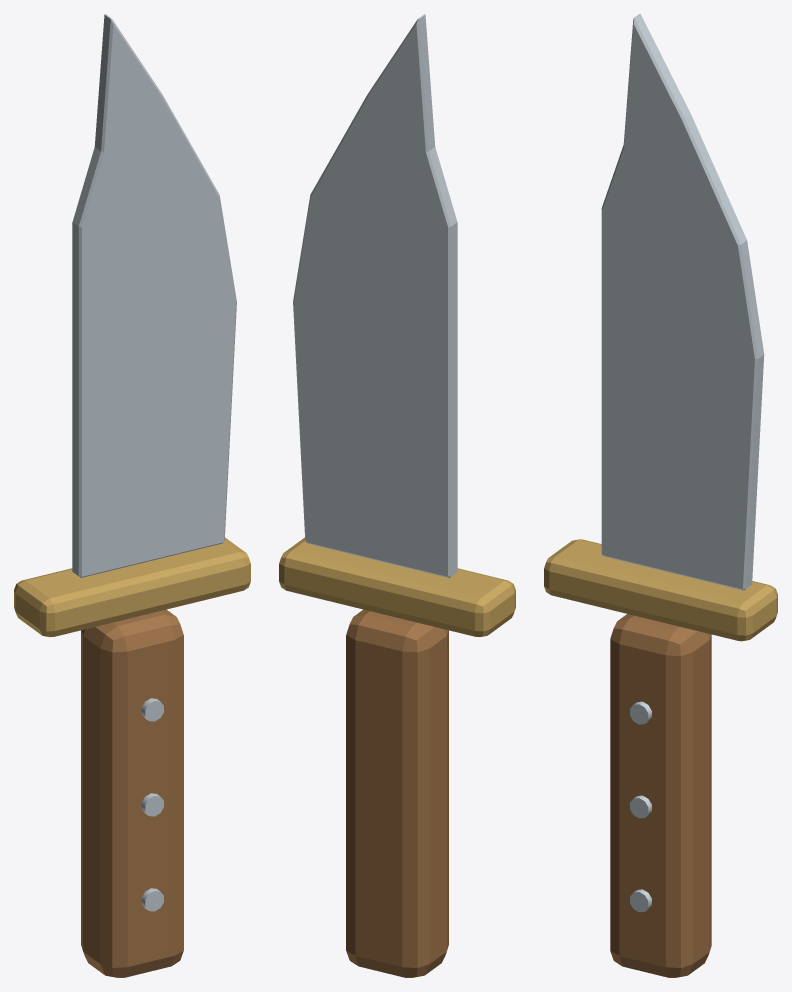
Rendered from knife_bowie.glb.
3 renders of one model, left to right at view 1: azimuth 30°, elevation 25°; view 2: azimuth 150°, elevation 25°; view 3: azimuth 330°, elevation 25°, orthographic.
Visible parts, largest first — view 1: Clip-point bowie blade, Bowie handle, Bowie crossguard; view 2: Clip-point bowie blade, Bowie handle, Bowie crossguard; view 3: Clip-point bowie blade, Bowie handle, Bowie crossguard.
Part boxes in pixels (left/top/right/bottom): Clip-point bowie blade: left=72, top=14, right=236, bottom=577; Bowie handle: left=81, top=609, right=183, bottom=977; Bowie crossguard: left=14, top=537, right=250, bottom=637; Clip-point bowie blade: left=293, top=14, right=457, bottom=577; Bowie handle: left=346, top=609, right=448, bottom=977; Bowie crossguard: left=279, top=537, right=515, bottom=637; Clip-point bowie blade: left=601, top=14, right=764, bottom=590; Bowie handle: left=610, top=614, right=711, bottom=977; Bowie crossguard: left=544, top=539, right=777, bottom=641.
Bounding box in the file's own units: 0.085 × 0.3693 × 0.0285.
